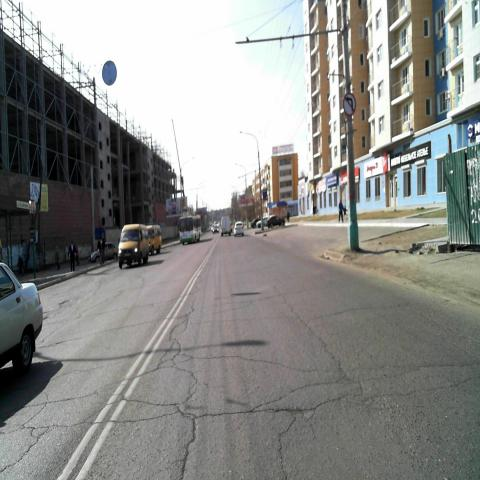3_18_2: (343, 92, 356, 117)
